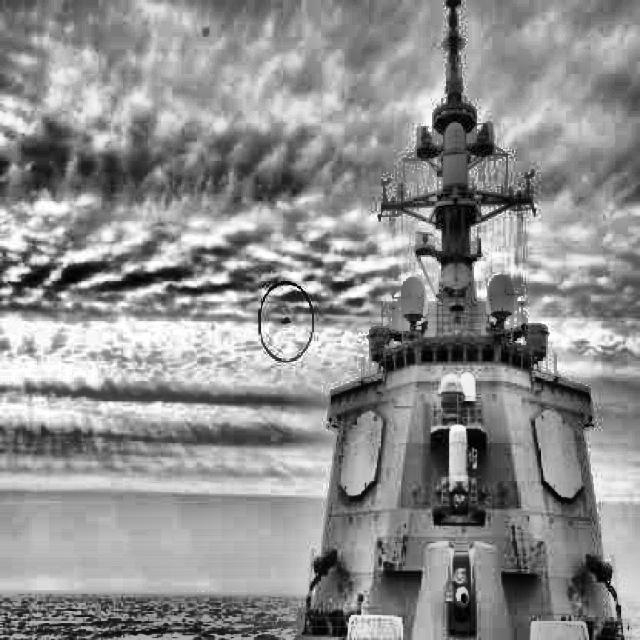F18: (278, 317, 292, 323)
